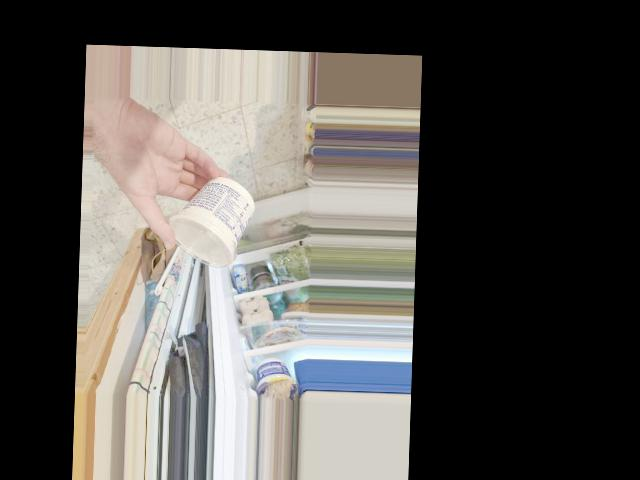cotage: (173, 185, 252, 268)
